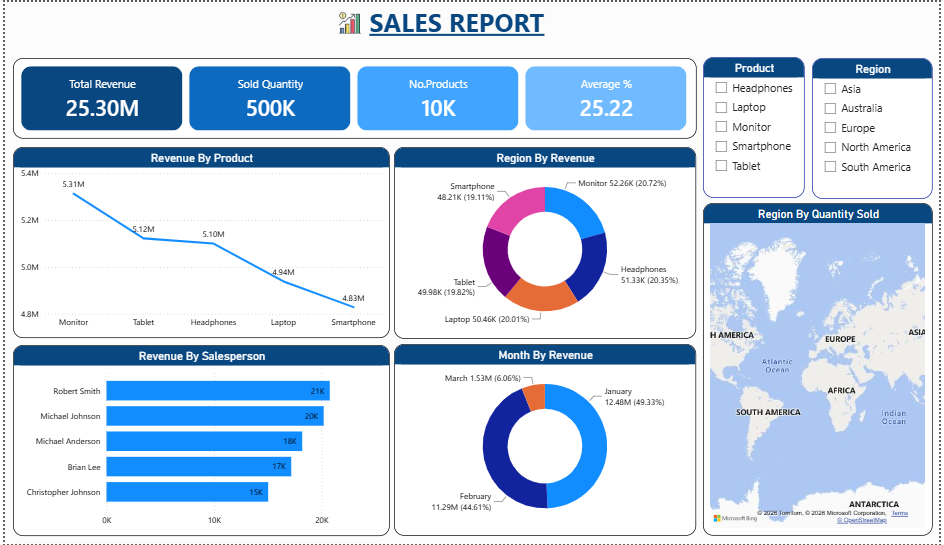

This screenshot's page, from the dashboard's own definition file:
{"tool":"powerbi","page":{"name":"Sales Dashboard","canvas":[1380,800],"ordinal":0},"visuals":[{"type":"cardVisual","fields":{"Data":["Data.Total Revenue","Data.Sold Quantity","Data.No.Products","Data.Avg %"]},"box":[11.3,82.3,1009.3,119.3],"z":0},{"type":"slicer","title":"Product","fields":{"Values":["Data.Product"]},"box":[1030.5,81.5,150.3,208.3],"z":1000},{"type":"slicer","title":"Region","fields":{"Values":["Data.Region"]},"box":[1191.4,82.3,178.1,208.3],"z":2000},{"type":"clusteredBarChart","title":"Revenue By Salesperson","fields":{"Category":["Data.Salesperson"],"Y":["Sum(Data.Revenue ($))"]},"box":[11.3,505.6,555.9,282.2],"z":3000},{"type":"donutChart","title":"Region By Revenue","fields":{"Y":["Sum(Data.Discount (%))"],"Category":["Data.Product"]},"box":[574.1,213.7,445.5,282.5],"z":4000},{"type":"lineChart","title":"Revenue By Product","fields":{"Category":["Data.Product"],"Y":["Sum(Data.Revenue ($))"]},"box":[11.3,213.3,555.9,282.2],"z":5000},{"type":"donutChart","title":" Month By Revenue  ","fields":{"Category":["Data.Date of Sale.Variation.Date Hierarchy.Month"],"Y":["Sum(Data.Revenue ($))"]},"box":[574.1,505.3,445.5,282.5],"z":6000},{"type":"map","title":" Region By  Quantity Sold","fields":{"Series":["Data.Region"],"Size":["Sum(Data.Quantity Sold)"]},"box":[1030.5,297,338.7,490.8],"z":7000},{"type":"textbox","box":[533,0,313,65.5],"z":8000},{"type":"image","box":[485.4,10.9,47.1,43.5],"z":9000}]}

Visuals, with their boxes in screenshot pixels (x1, y1, x2, y2), scaled from the page's 1380x800 canvas onto the 944x545 screenshot:
cardVisual - Data.Total Revenue x Data.Sold Quantity: crop(8, 56, 698, 137)
"Product" slicer: crop(705, 56, 808, 197)
"Region" slicer: crop(815, 56, 937, 198)
"Revenue By Salesperson" clusteredBarChart: crop(8, 344, 388, 537)
"Region By Revenue" donutChart: crop(393, 146, 697, 338)
"Revenue By Product" lineChart: crop(8, 145, 388, 338)
" Month By Revenue  " donutChart: crop(393, 344, 697, 537)
" Region By  Quantity Sold" map: crop(705, 202, 937, 537)
textbox: crop(365, 0, 579, 45)
image: crop(332, 7, 364, 37)
